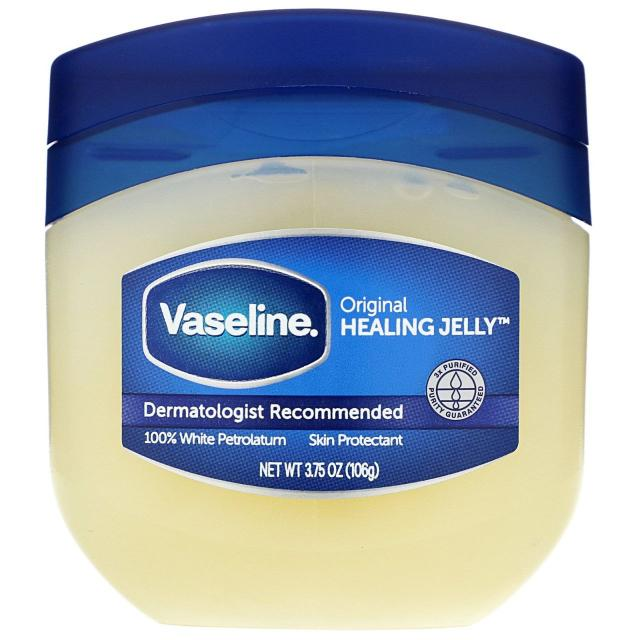cosmotic: (93, 88, 542, 582)
